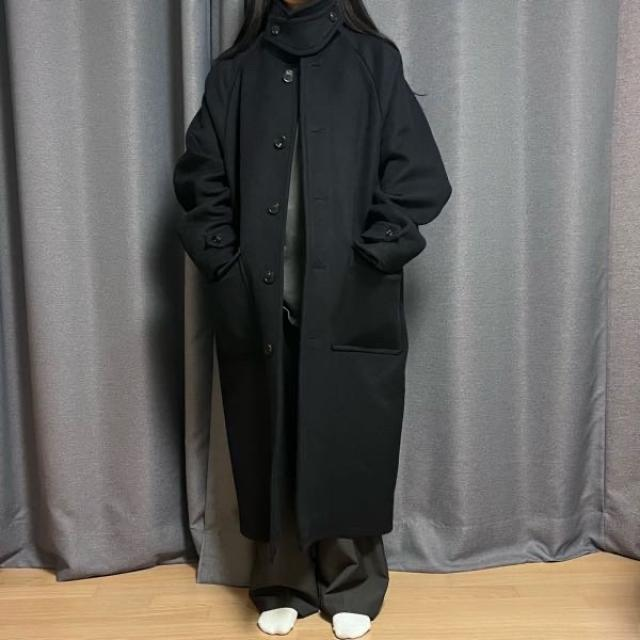coat: (177, 0, 455, 540)
slacks: (248, 301, 390, 623)
